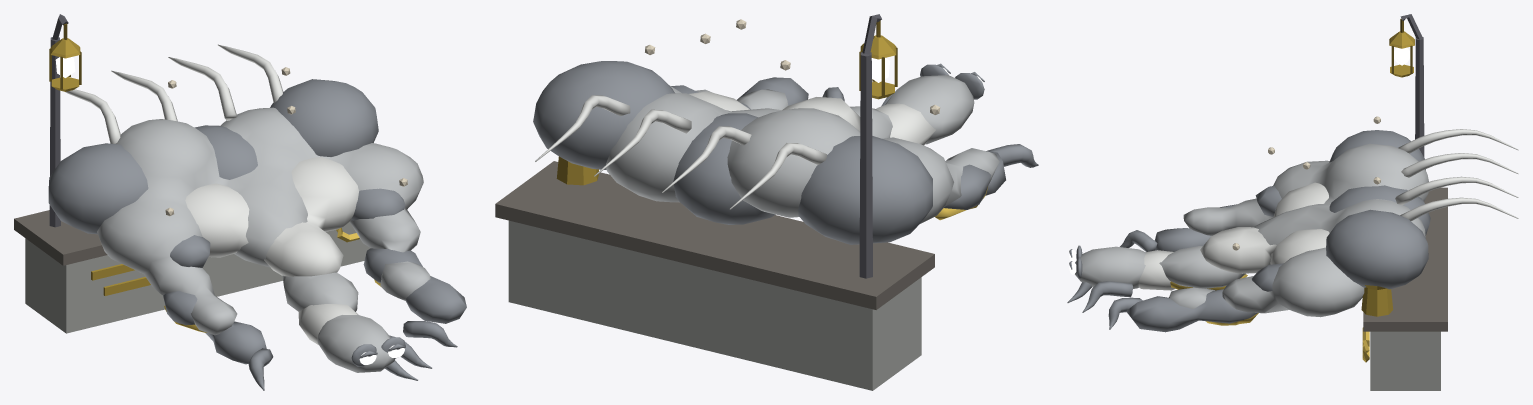
File: fog-sea-fret.glb
The picture shows the model from 3 angles, left to right: view 1: azimuth 30°, elevation 25°; view 2: azimuth 150°, elevation 25°; view 3: azimuth 270°, elevation 25°; orthographic projection. The views are drawn at different scales.
Visible parts, largest first — view 1: pulse_fog, fog_sea_fret, sway_spray, sway_edge, sway_light; view 2: fog_sea_fret, pulse_fog, sway_spray, sway_light, sway_edge; view 3: pulse_fog, fog_sea_fret, sway_spray, sway_edge, sway_light.
Part boxes in pixels (x1,y1,x2,y2): pulse_fog: [48, 79, 466, 372]; fog_sea_fret: [14, 37, 370, 333]; sway_spray: [65, 44, 283, 143]; sway_edge: [248, 321, 457, 390]; sway_light: [49, 14, 81, 91]; fog_sea_fret: [495, 52, 934, 390]; pulse_fog: [533, 61, 1005, 244]; sway_spray: [535, 95, 826, 209]; sway_light: [859, 14, 897, 99]; sway_edge: [822, 87, 1038, 167]; pulse_fog: [1069, 130, 1430, 332]; fog_sea_fret: [1361, 37, 1447, 390]; sway_spray: [1395, 129, 1518, 221]; sway_edge: [1067, 230, 1157, 329]; sway_light: [1389, 14, 1422, 77].
Size of the model in its own units: 0.9198 by 0.8008 by 1.28.
